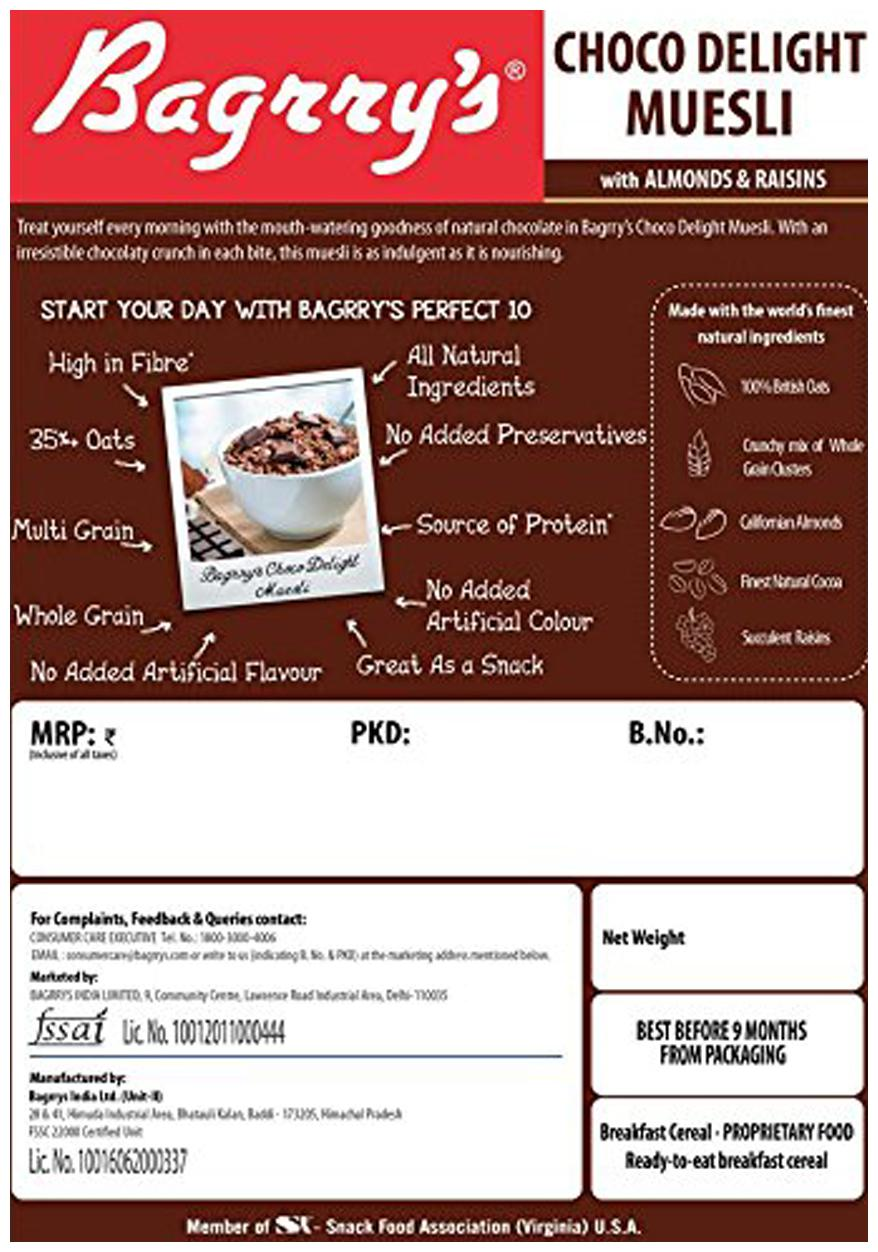fssai: (28, 1007, 108, 1045)
